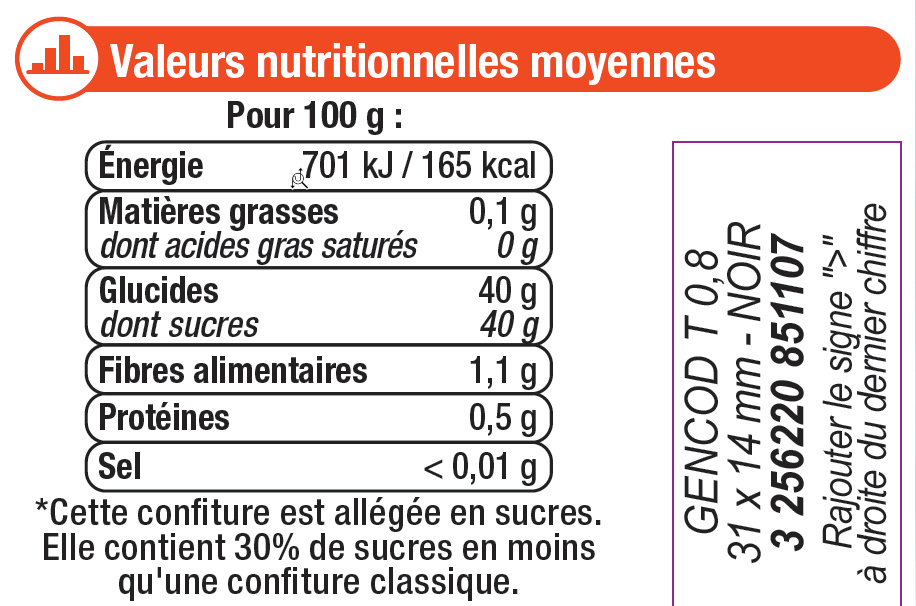column: (92, 146, 416, 489), (424, 147, 538, 489)
table: (89, 95, 554, 494)
